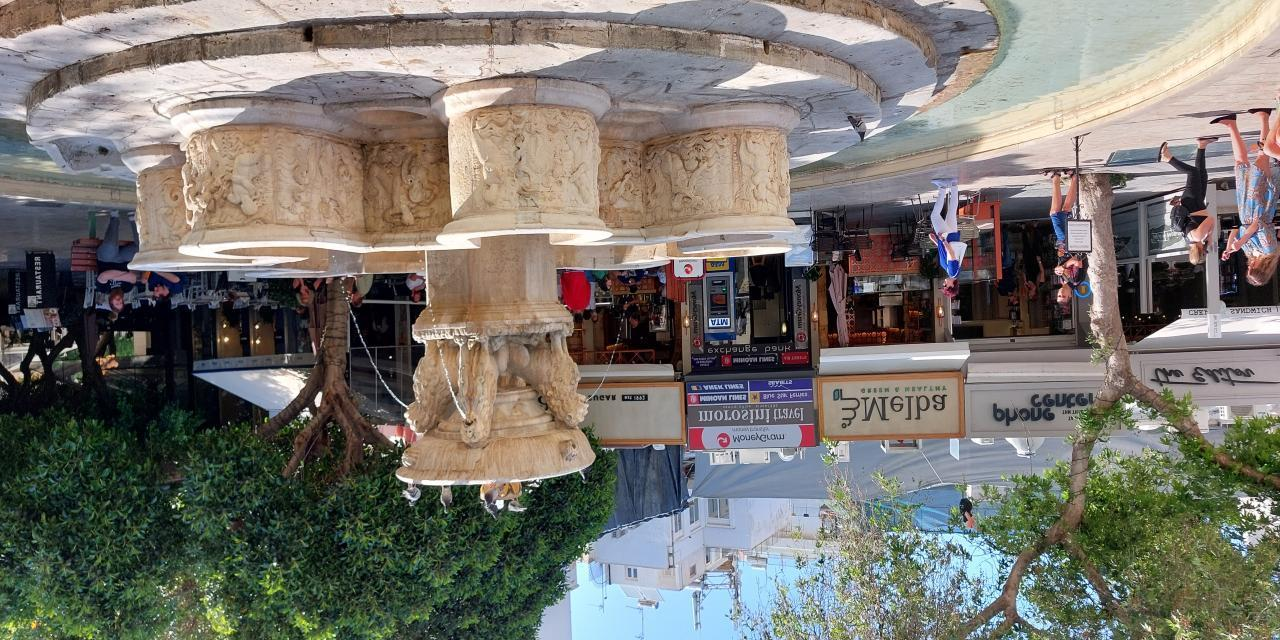Liontaria: (121, 73, 807, 493)
